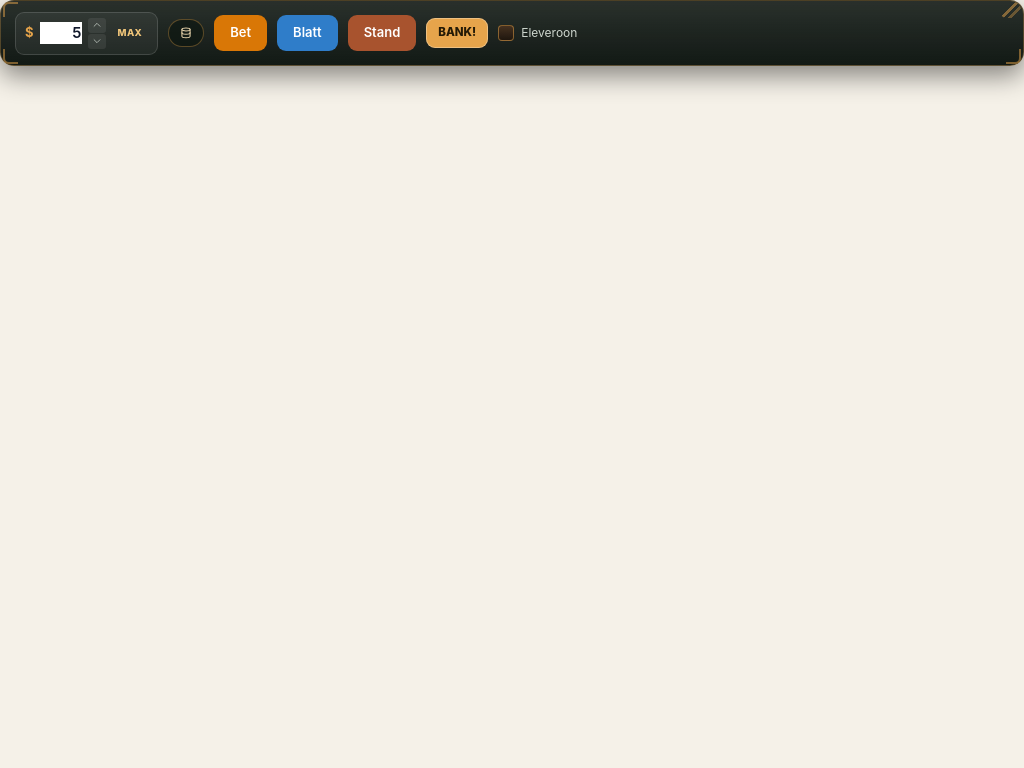
Scenario: PlayerDock bet amount field › clamps an emptied field up to 1 when the pad closes
The width and height of the screenshot is (1024, 768).
Click the number field named "Bet amount": (60, 33) [40,22,82,44]
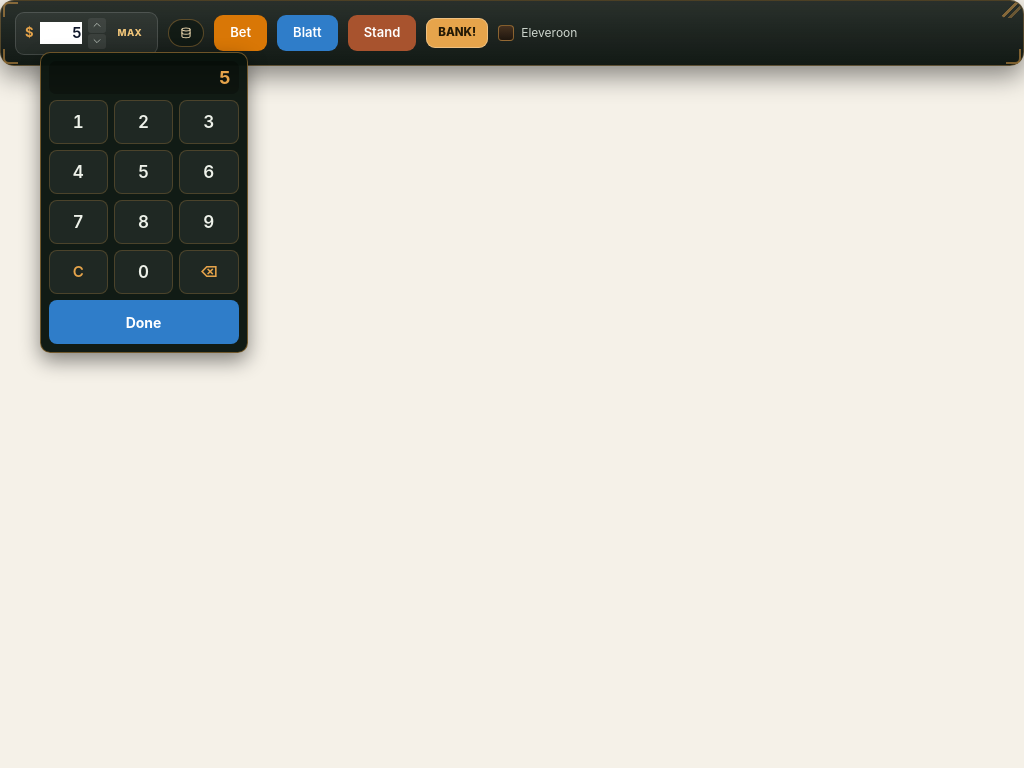
Click the button named "Clear": (78, 272) [48,250,108,294]
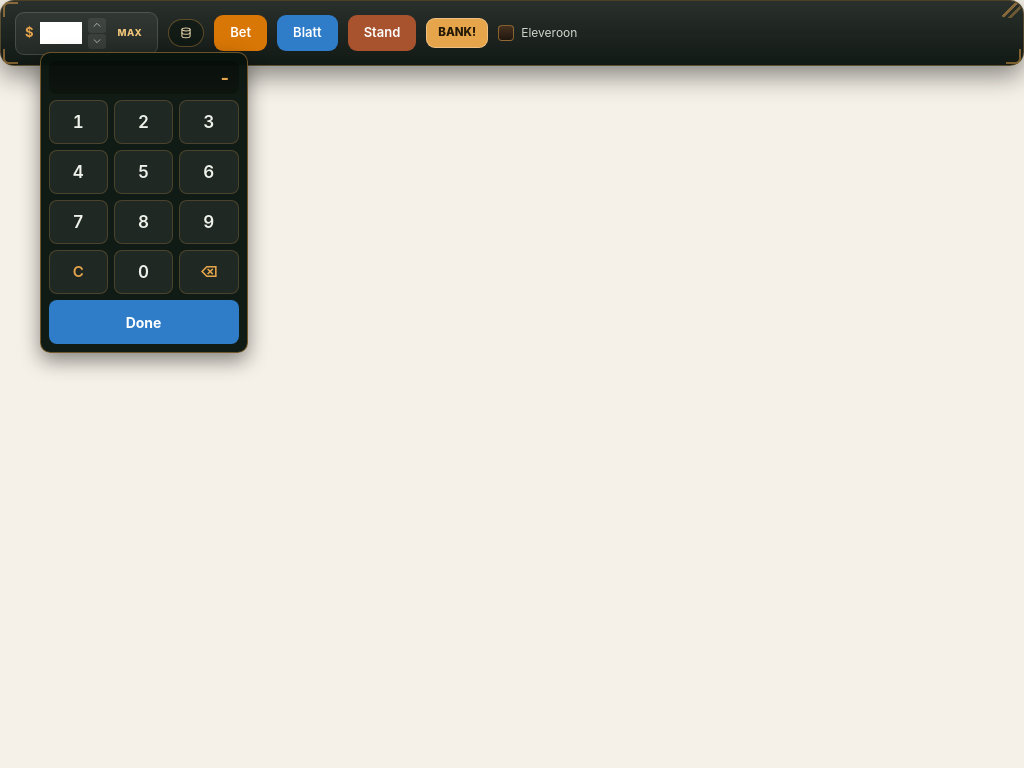
Click the button "Done": (144, 322) [48,300,238,344]
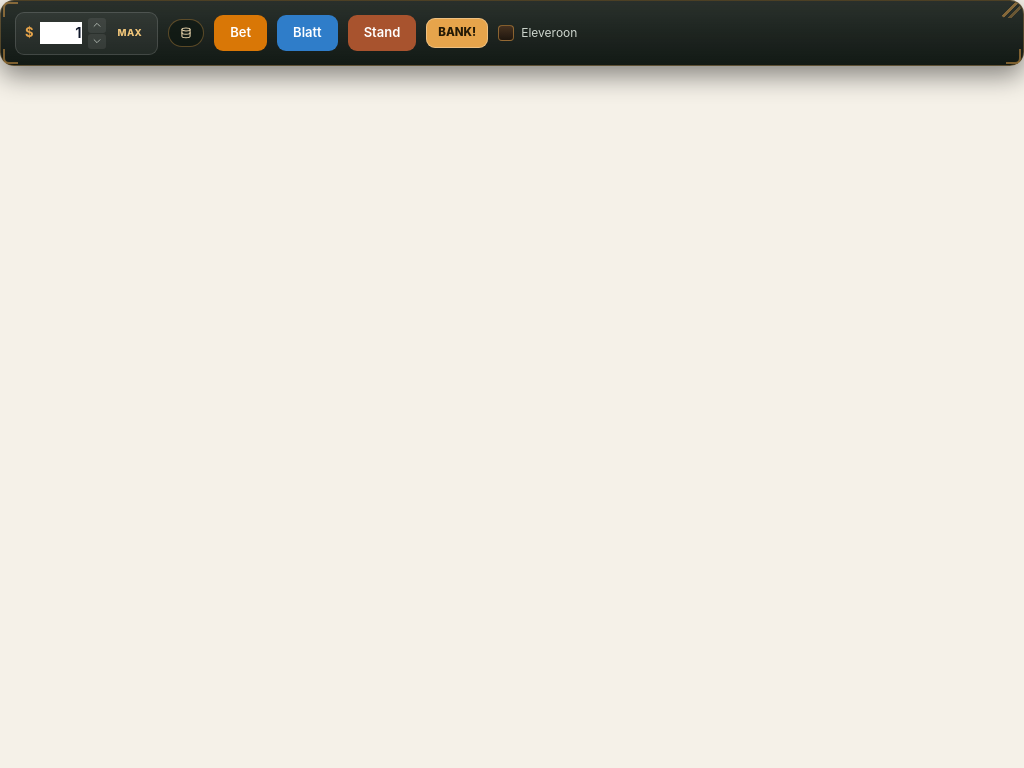
Expected: the number field named "Bet amount" holds "1", [40,22,82,44]
